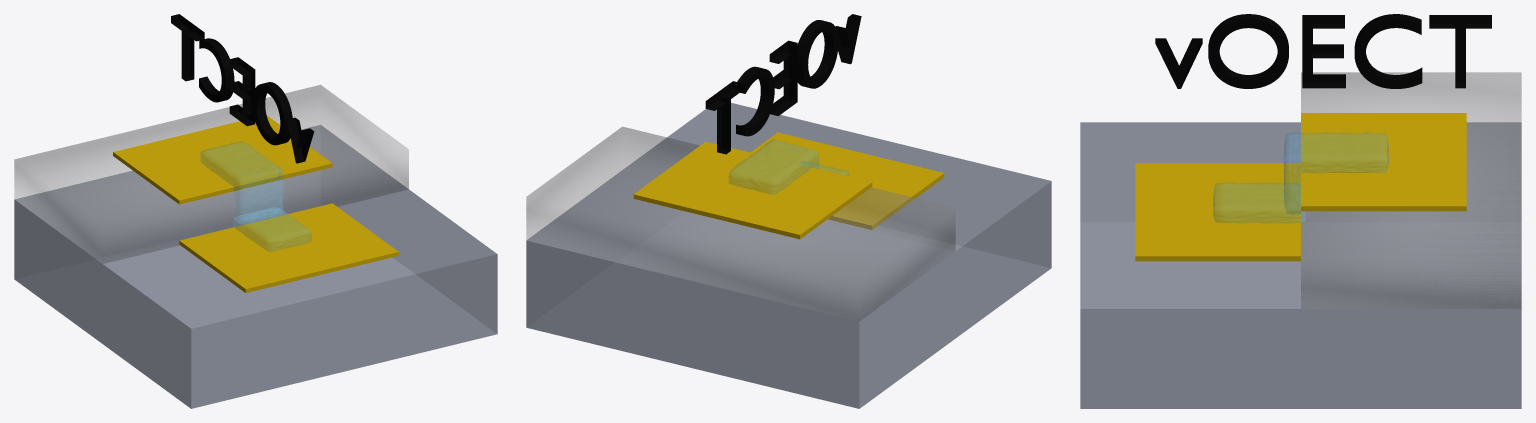
The model's file is vOECT_gltf.gltf.
3 views of the same model, side by side, from view 1: azimuth 30°, elevation 25°; view 2: azimuth 150°, elevation 25°; view 3: azimuth 270°, elevation 25° (orthographic). The views are drawn at different scales.
Visible parts, largest first — view 1: vOECT.001, vOECT_text.001; view 2: vOECT.001, vOECT_text.001; view 3: vOECT.001, vOECT_text.001.
Part boxes in pixels (<box>): vOECT.001: <box>14,85,497,408</box>; vOECT_text.001: <box>171,14,314,163</box>; vOECT.001: <box>526,103,1051,408</box>; vOECT_text.001: <box>705,14,861,154</box>; vOECT.001: <box>1080,72,1521,408</box>; vOECT_text.001: <box>1155,14,1491,88</box>.
Bounding box in the file's own units: 4 × 2.97 × 4.
